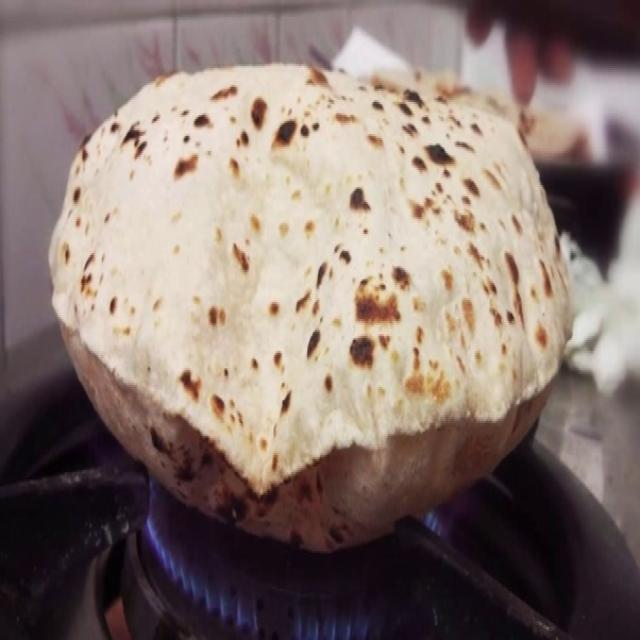roti: (43, 59, 576, 550)
